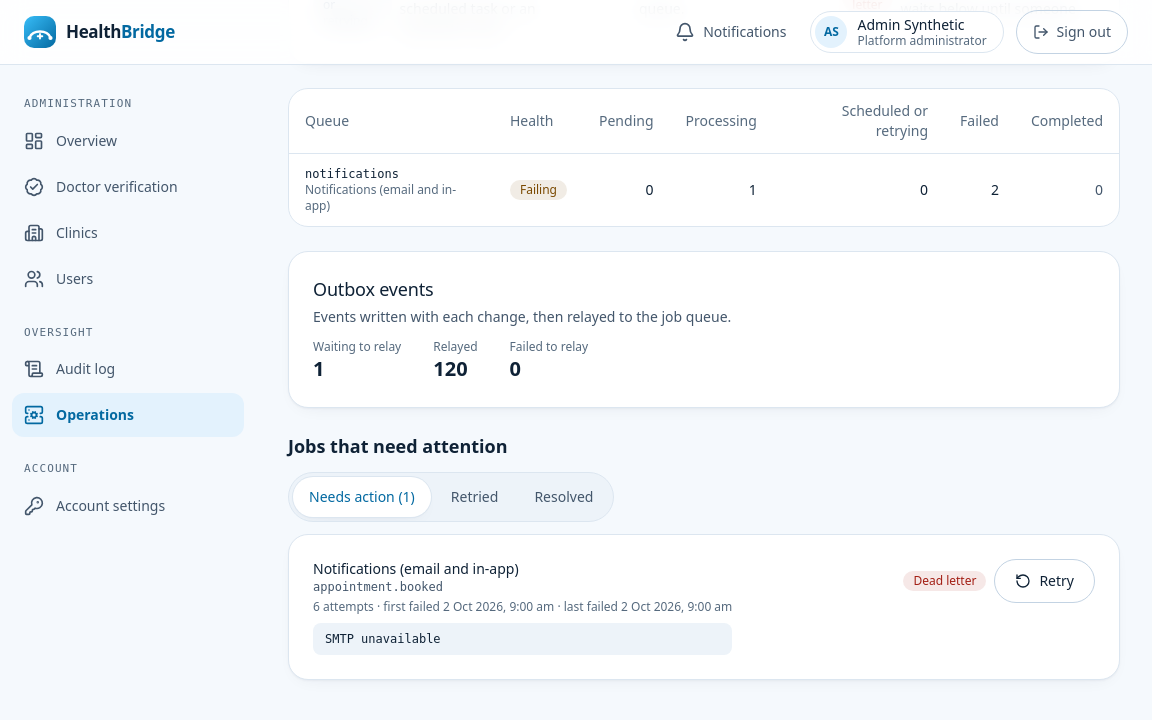
Test: operations › shows queue health and retries a dead-lettered job
(page scrolled)
Expected: the text "SMTP unavailable" is shown, [313, 623, 732, 655]
Expected: the column heading "notifications Notifications (email and in-app)" is shown, [289, 154, 494, 226]
Note: Retrying asks first and explains what happens.
Click the button "Retry": click(1045, 581) [994, 559, 1095, 603]
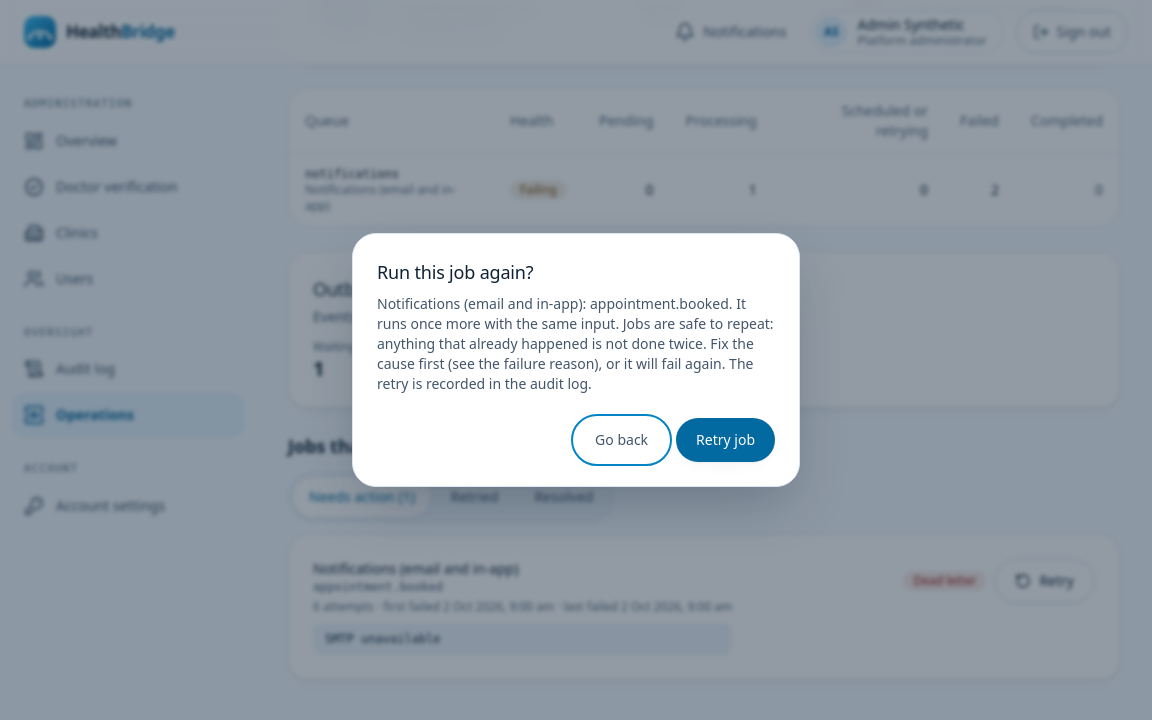
Click the button "Retry job": click(726, 440) [676, 418, 775, 462]
(page scrolled)
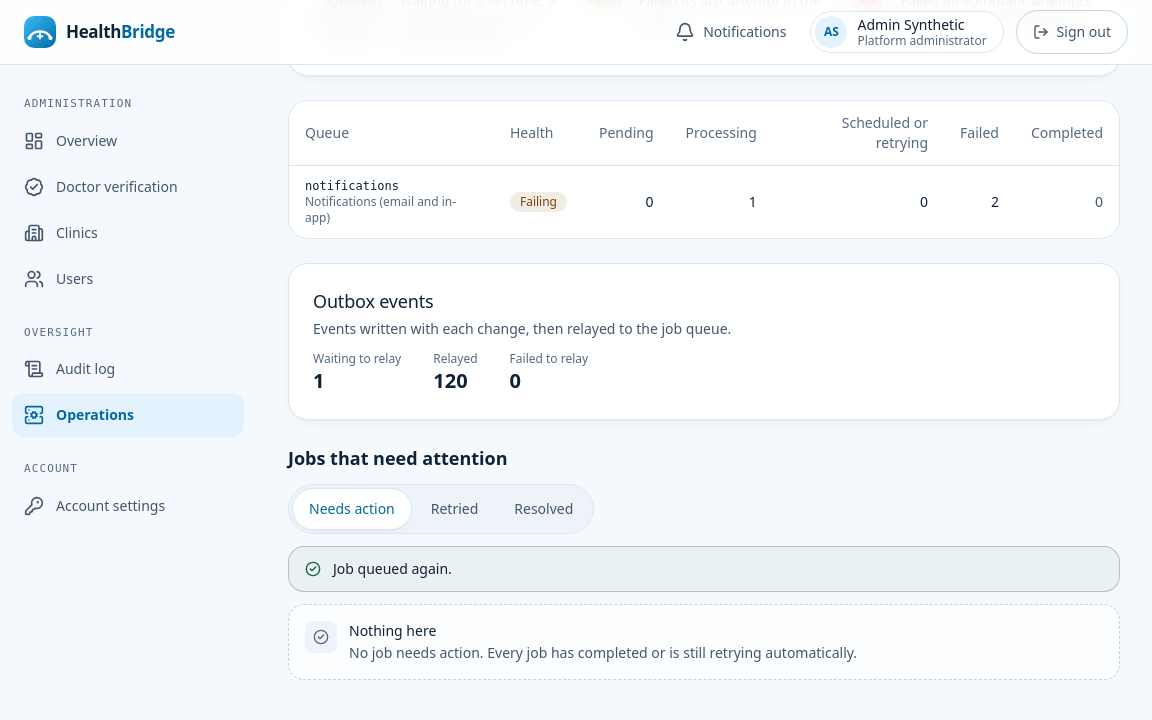
Result: the text "Job queued again." is shown at [333, 559, 452, 578]
Result: the text "Nothing here" is shown at [349, 621, 436, 640]
